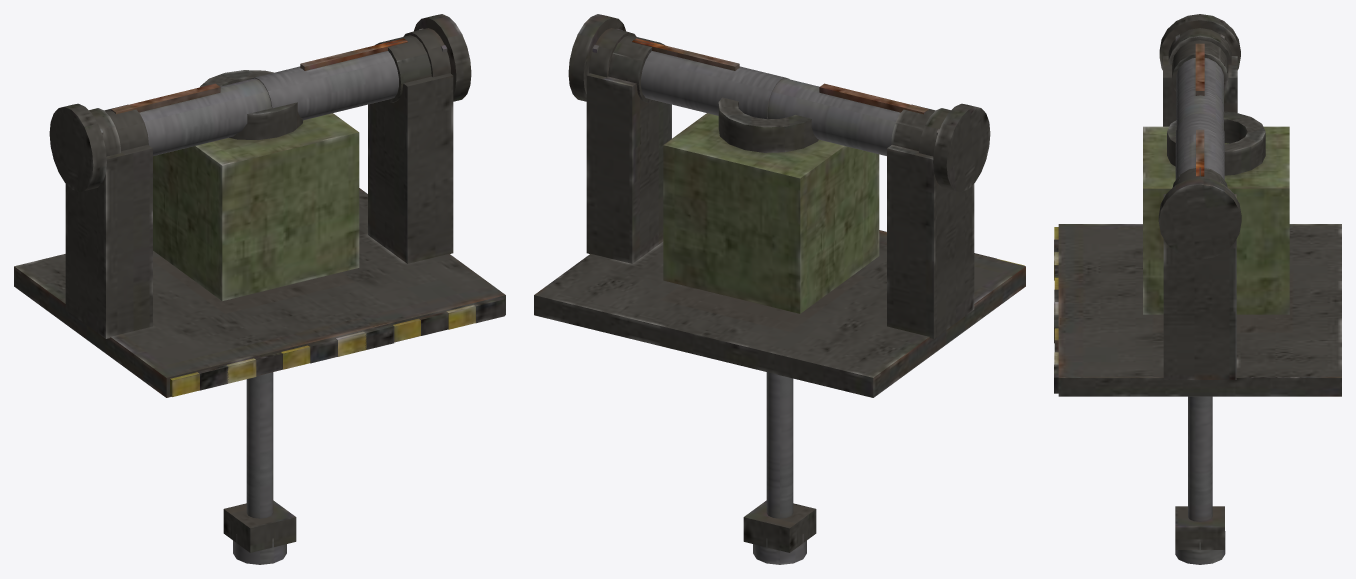
The model's file is feCrimper.glb.
The picture shows the model from 3 angles, left to right: view 1: azimuth 30°, elevation 25°; view 2: azimuth 150°, elevation 25°; view 3: azimuth 270°, elevation 25°; orthographic projection. The views are drawn at different scales.
Parts seen in each view (by area): view 1: feCrimper_Base, FeSpin_DriveShaft, FePiston_InlineDie; view 2: feCrimper_Base, FeSpin_DriveShaft, FePiston_InlineDie; view 3: feCrimper_Base, FeSpin_DriveShaft, FePiston_InlineDie.
Boxes of the visible parts, x1,y1,x2,y2 form: feCrimper_Base: [14, 35, 505, 397]; FeSpin_DriveShaft: [49, 14, 471, 192]; FePiston_InlineDie: [223, 372, 296, 564]; feCrimper_Base: [534, 35, 1025, 397]; FeSpin_DriveShaft: [568, 14, 990, 192]; FePiston_InlineDie: [743, 372, 816, 564]; feCrimper_Base: [1054, 40, 1341, 396]; FeSpin_DriveShaft: [1158, 14, 1241, 259]; FePiston_InlineDie: [1175, 396, 1225, 564].
Size of the model in its own units: 1 by 1.24 by 0.7121.
Materials: 1 (1 with a texture image).
